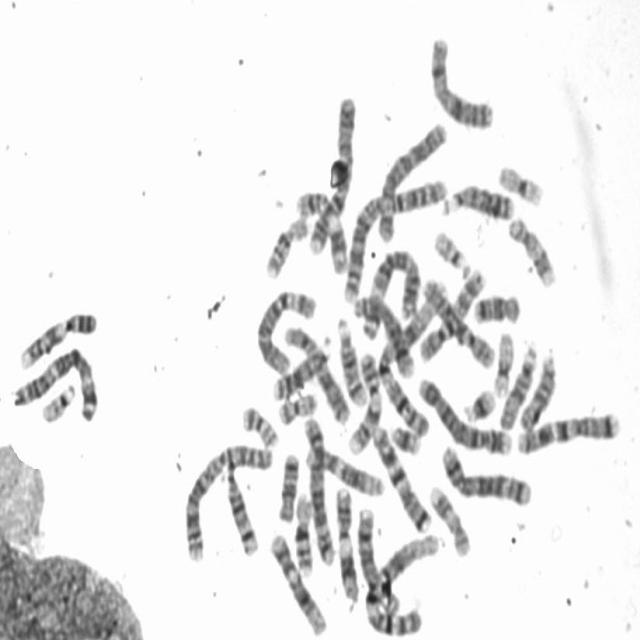A1: (374, 276, 449, 440), (358, 521, 440, 638)
A2: (338, 172, 449, 304), (178, 436, 276, 564)
A3: (10, 338, 102, 424), (359, 243, 423, 340)
B4: (305, 89, 358, 259), (415, 371, 513, 458)
B5: (436, 438, 534, 509), (300, 411, 336, 567)
C10: (416, 264, 489, 368), (426, 283, 499, 376)
C11: (291, 182, 350, 275), (332, 482, 361, 604)
C12: (266, 527, 328, 638), (301, 441, 386, 498)
C6: (373, 115, 450, 245), (254, 282, 319, 378)
C7: (368, 419, 433, 535), (513, 404, 623, 457)
C8: (352, 290, 417, 379), (353, 502, 402, 616)
C9: (16, 303, 100, 371), (344, 347, 383, 456)
D13: (270, 328, 333, 402), (438, 177, 517, 222)
D14: (221, 454, 261, 558), (333, 312, 369, 408)
D15: (496, 338, 539, 431), (515, 348, 558, 433)
E16: (262, 208, 311, 280), (291, 487, 316, 579)
E17: (505, 210, 559, 290), (426, 478, 473, 559)
E18: (470, 285, 523, 326), (274, 446, 301, 524)
F19: (495, 158, 546, 208), (489, 325, 516, 398)
F20: (239, 400, 281, 450), (274, 384, 319, 426)
G21: (460, 381, 498, 423), (387, 419, 423, 456)
G22: (431, 224, 472, 274), (38, 376, 79, 424)
X: (281, 320, 353, 426), (426, 29, 497, 131)
